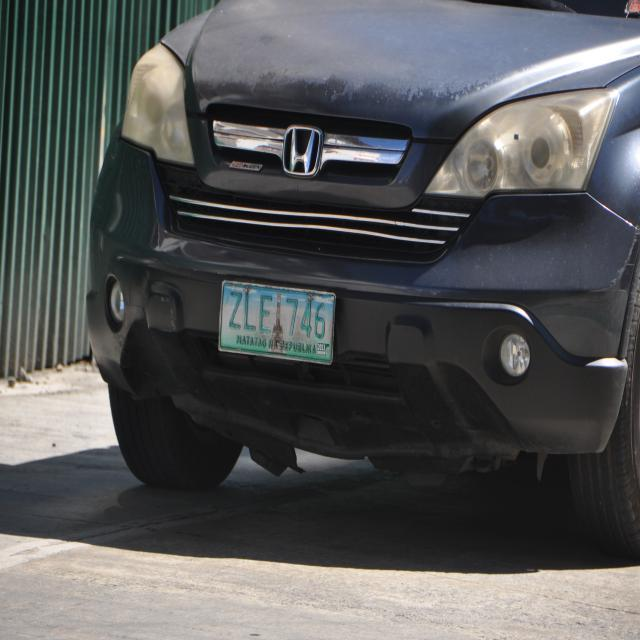LicensePlate: (219, 275, 354, 369)
